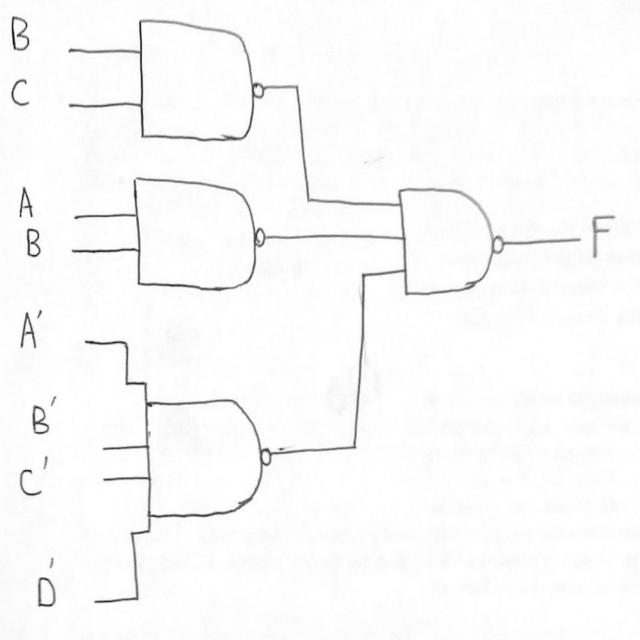NAND: (134, 367, 285, 537), (120, 170, 275, 312), (381, 165, 519, 316), (132, 11, 272, 157)
